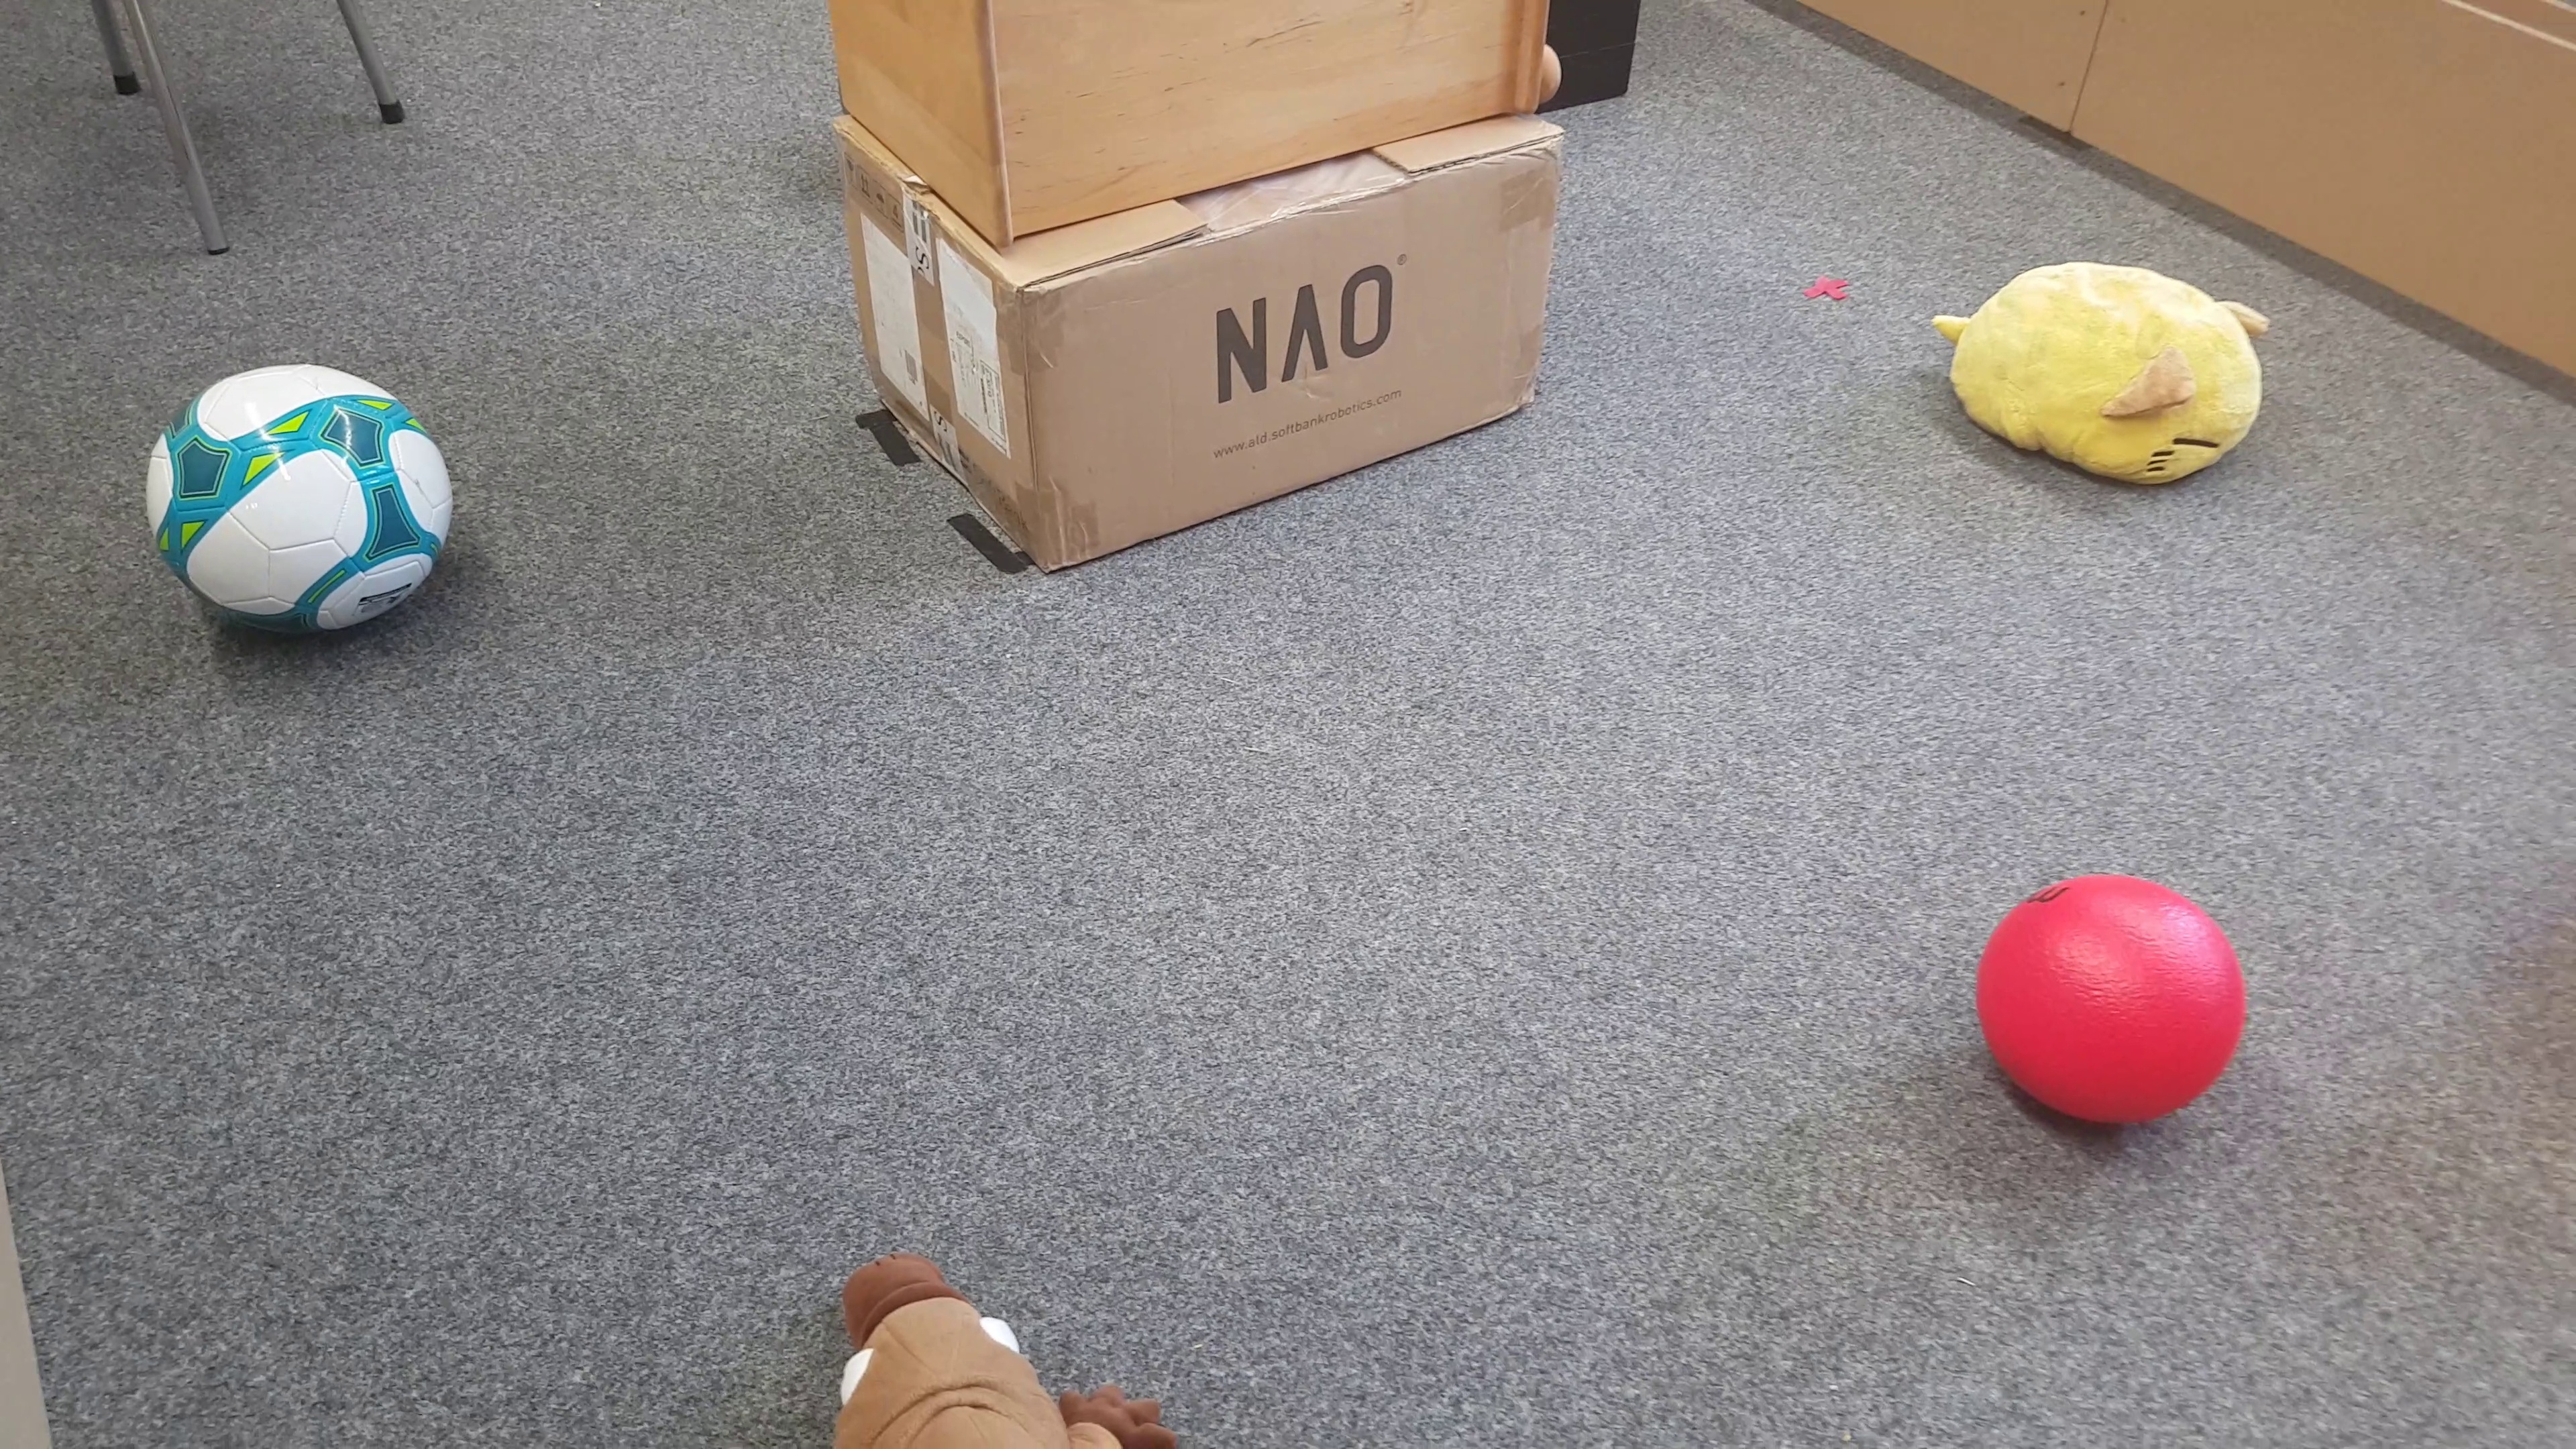grasp: (1920, 251, 2273, 495), (796, 1253, 1185, 1449)
kick: (140, 357, 456, 632), (1976, 883, 2247, 1146)
